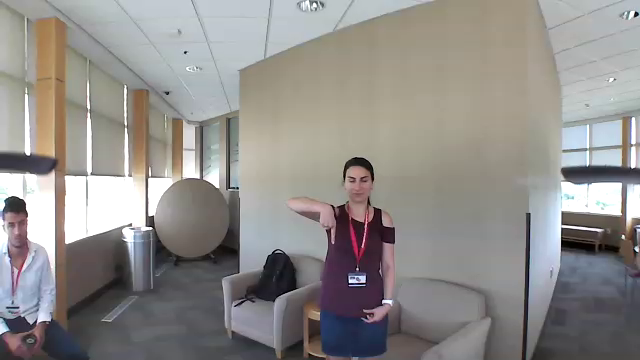down: (307, 193, 344, 247)
